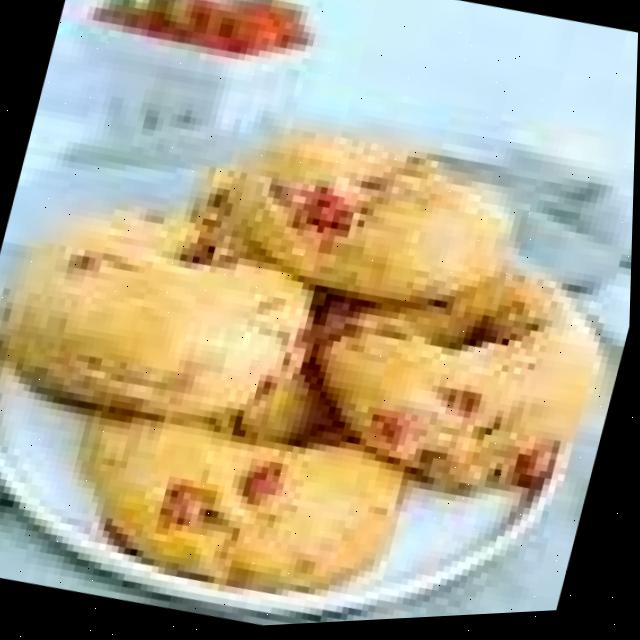Bagel: (319, 279, 600, 492)
